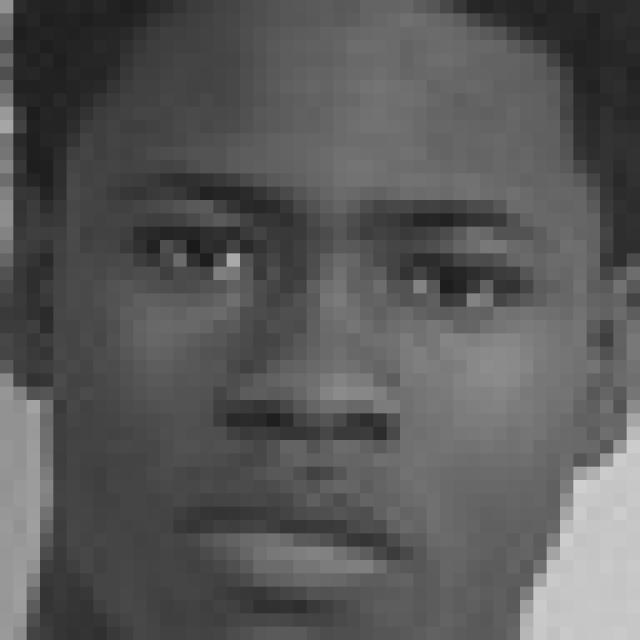neutral: (97, 160, 558, 618)
